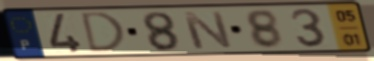3: (289, 7, 331, 49)
4: (48, 12, 85, 55)
8: (139, 10, 182, 53), (244, 8, 286, 50)
D: (80, 10, 128, 55)
N: (179, 10, 236, 51)
